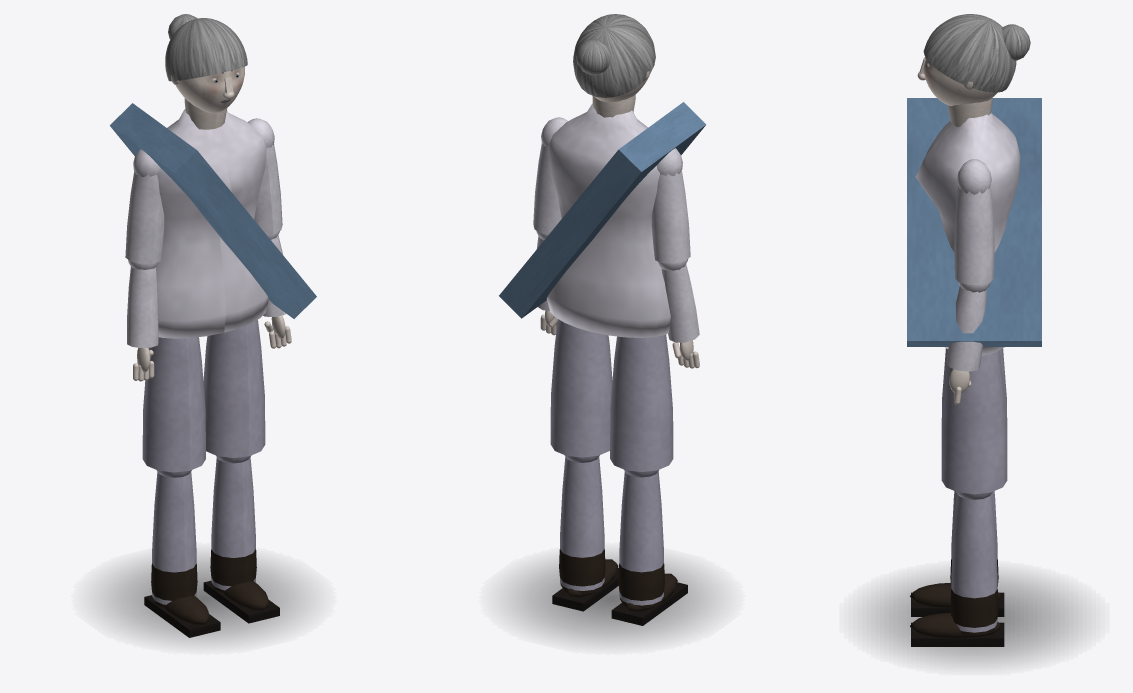
Rendered from npc_goosebumps.glb.
The picture shows the model from 3 angles, left to right: view 1: azimuth 30°, elevation 25°; view 2: azimuth 150°, elevation 25°; view 3: azimuth 270°, elevation 25°; orthographic projection. The views are drawn at different scales.
Parts seen in each view (by area): view 1: chest, object 11, legL, legR, shinL, shinR, head, armL, foreL, armR, foreR; view 2: chest, object 11, legL, legR, shinL, shinR, head, armL, foreL, armR; view 3: chest, object 11, shinR, legR, head, armR, foreR, shinL, legL.
Part boxes in pixels (left/top/right/bottom): chest: left=110, top=98, right=316, bottom=338; object 11: left=97, top=554, right=309, bottom=643; legL: left=142, top=337, right=205, bottom=472; legR: left=203, top=320, right=265, bottom=457; shinL: left=144, top=470, right=220, bottom=637; shinR: left=203, top=455, right=279, bottom=623; head: left=165, top=14, right=247, bottom=113; armL: left=125, top=149, right=164, bottom=264; foreL: left=127, top=260, right=158, bottom=381; armR: left=248, top=118, right=282, bottom=235; foreR: left=263, top=231, right=291, bottom=348; chest: left=499, top=95, right=706, bottom=337; object 11: left=506, top=554, right=718, bottom=643; legL: left=610, top=334, right=673, bottom=471; legR: left=550, top=319, right=612, bottom=457; shinL: left=611, top=469, right=687, bottom=625; shinR: left=552, top=455, right=618, bottom=611; head: left=573, top=14, right=655, bottom=102; armL: left=651, top=148, right=690, bottom=263; foreL: left=658, top=259, right=699, bottom=368; armR: left=533, top=117, right=567, bottom=234; chest: left=907, top=98, right=1041, bottom=355; object 11: left=866, top=573, right=1082, bottom=663; shinR: left=910, top=492, right=1004, bottom=646; legR: left=941, top=350, right=1007, bottom=494; head: left=917, top=14, right=1030, bottom=105; armR: left=954, top=159, right=994, bottom=284; foreR: left=946, top=282, right=990, bottom=404; shinL: left=910, top=491, right=1004, bottom=616; legL: left=941, top=348, right=1007, bottom=447.
Bounding box in the file's own units: 0.77 × 1.79 × 0.77.
6 materials, 5 textured.
